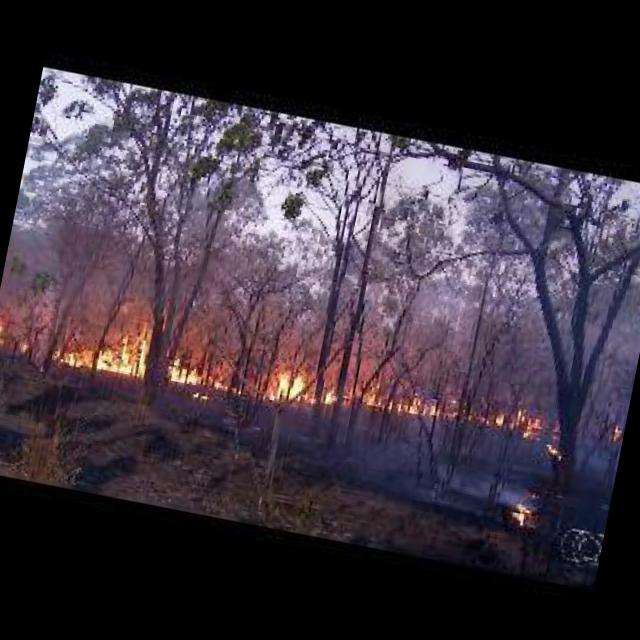fire: (276, 349, 551, 444), (58, 298, 232, 392), (504, 498, 538, 528), (598, 420, 626, 442), (0, 305, 10, 364)
